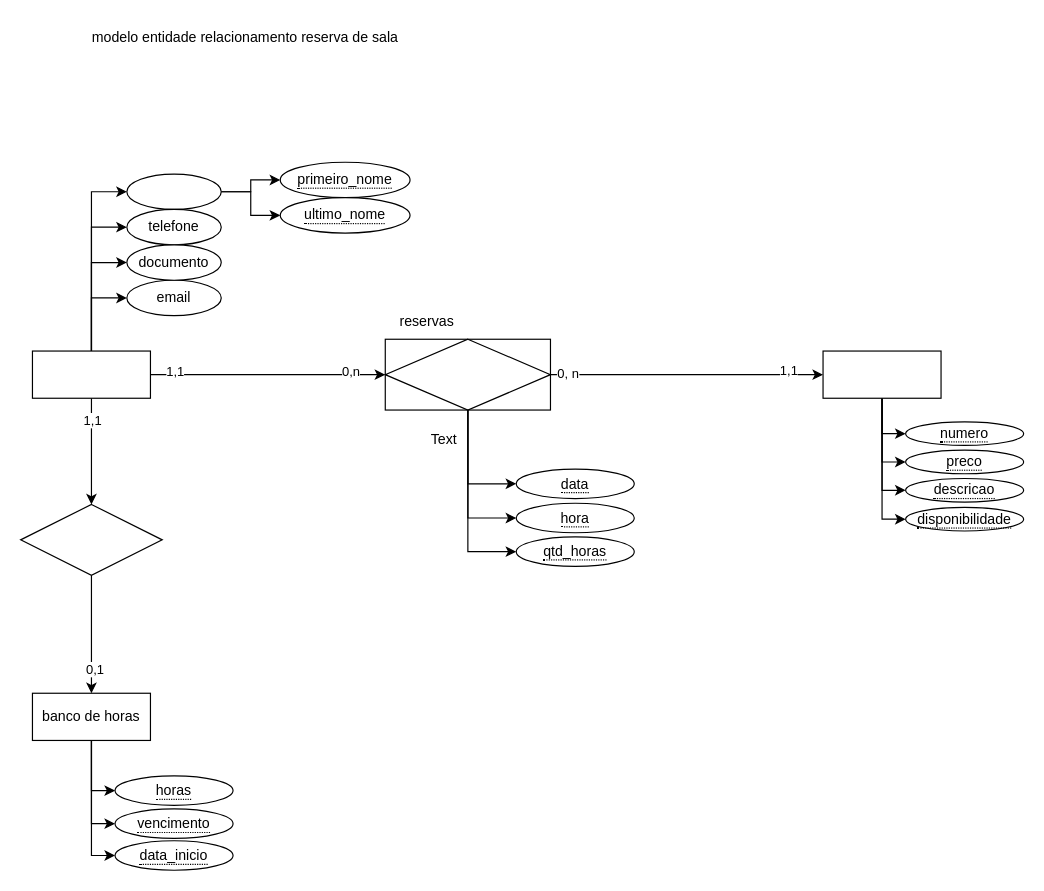
This 1044x891 diagram has some shape labels left out. The shapes that lost their labels are listed below. From the top down, each one's centre as x and y in pixels, then its label:
At point 173,191: "nome".
At point 90,374: "cliente".
At point 467,374: "reserva / reservada".
At point 881,374: "sala".
At point 90,539: "possui/pertence".
